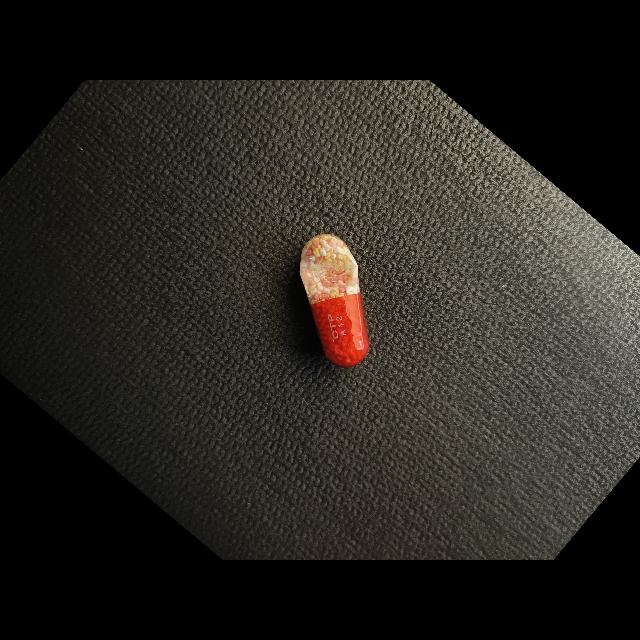Defective Capsule: (300, 234, 370, 367)
